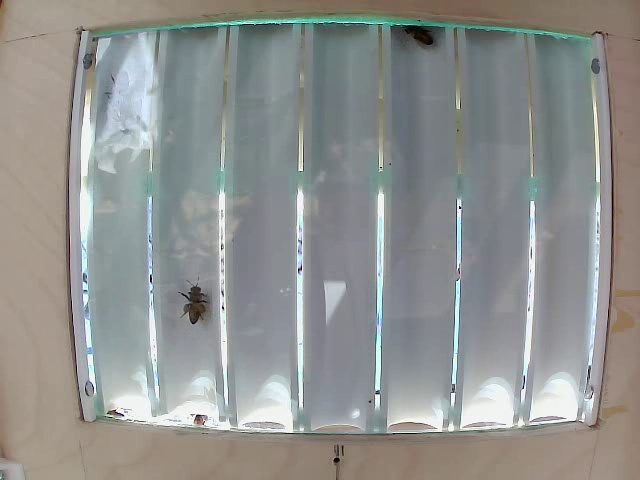bee: (174, 273, 217, 328)
